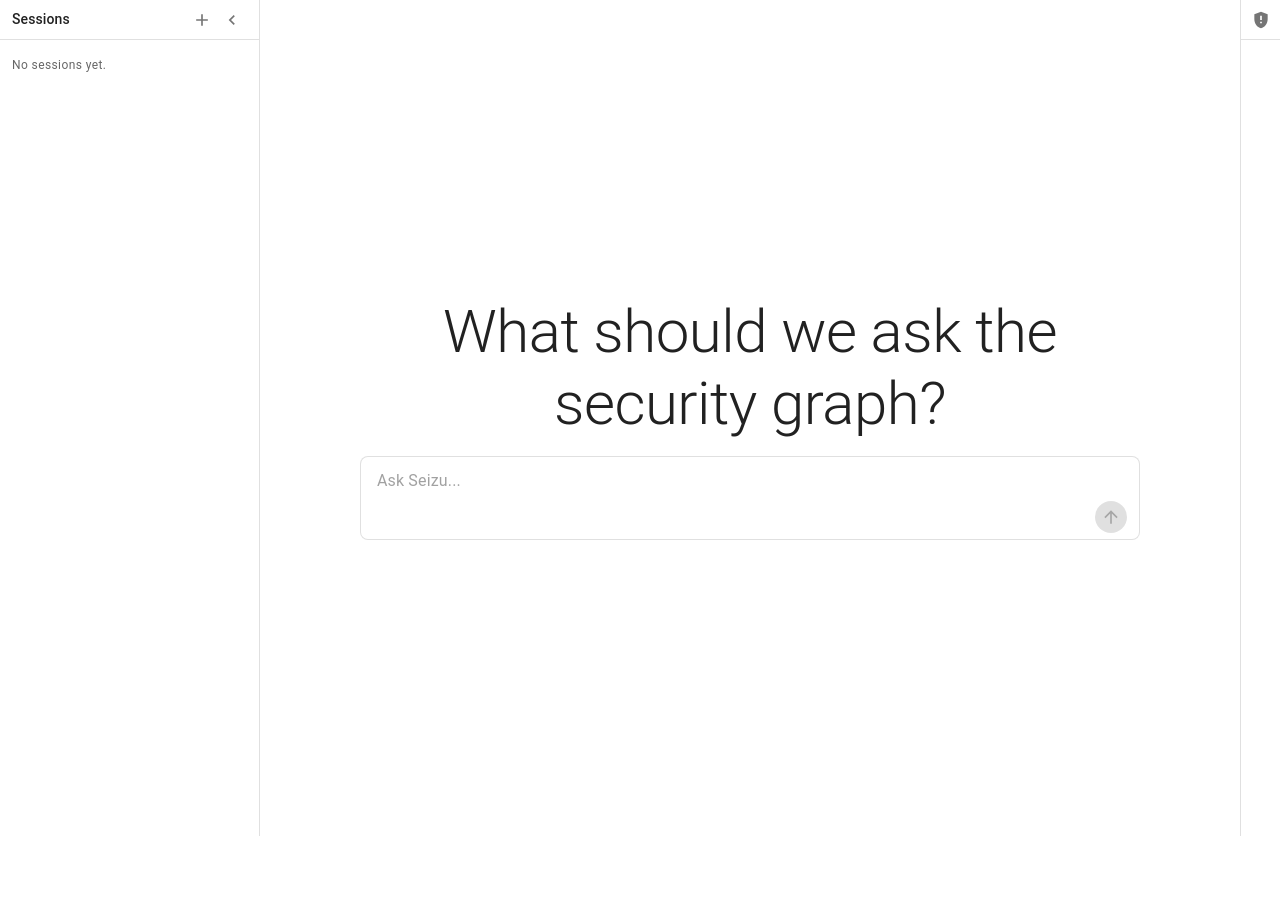
Test case: ChatInterface › admits the turn itself for the landing question, then attaches to it
Type "Which repos are exposed?" into the text box with placeholder "Ask Seizu..." at (750,481), box [377,469,1123,493]
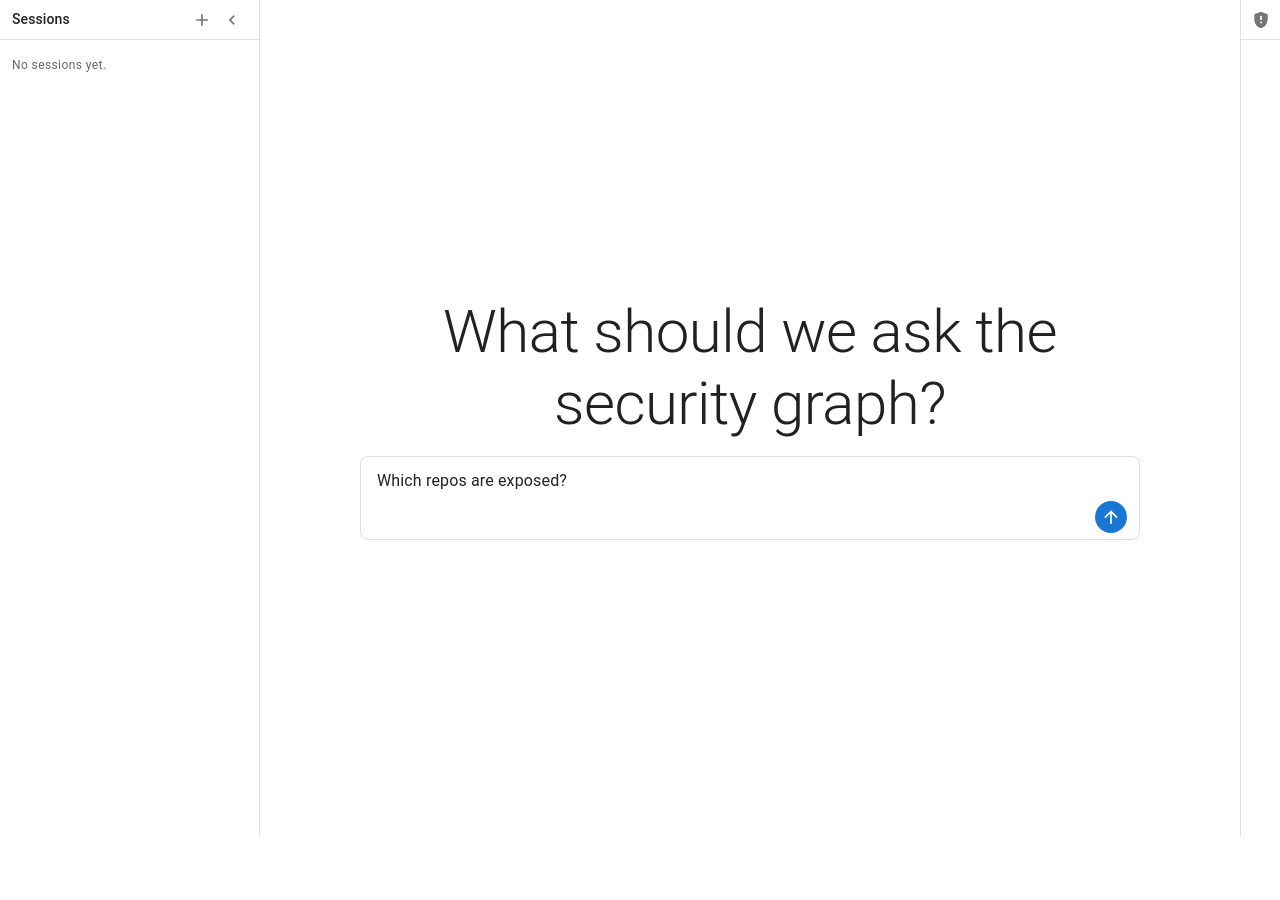
Click the button named "Send" at (1111,517), box [1095,501,1127,533]
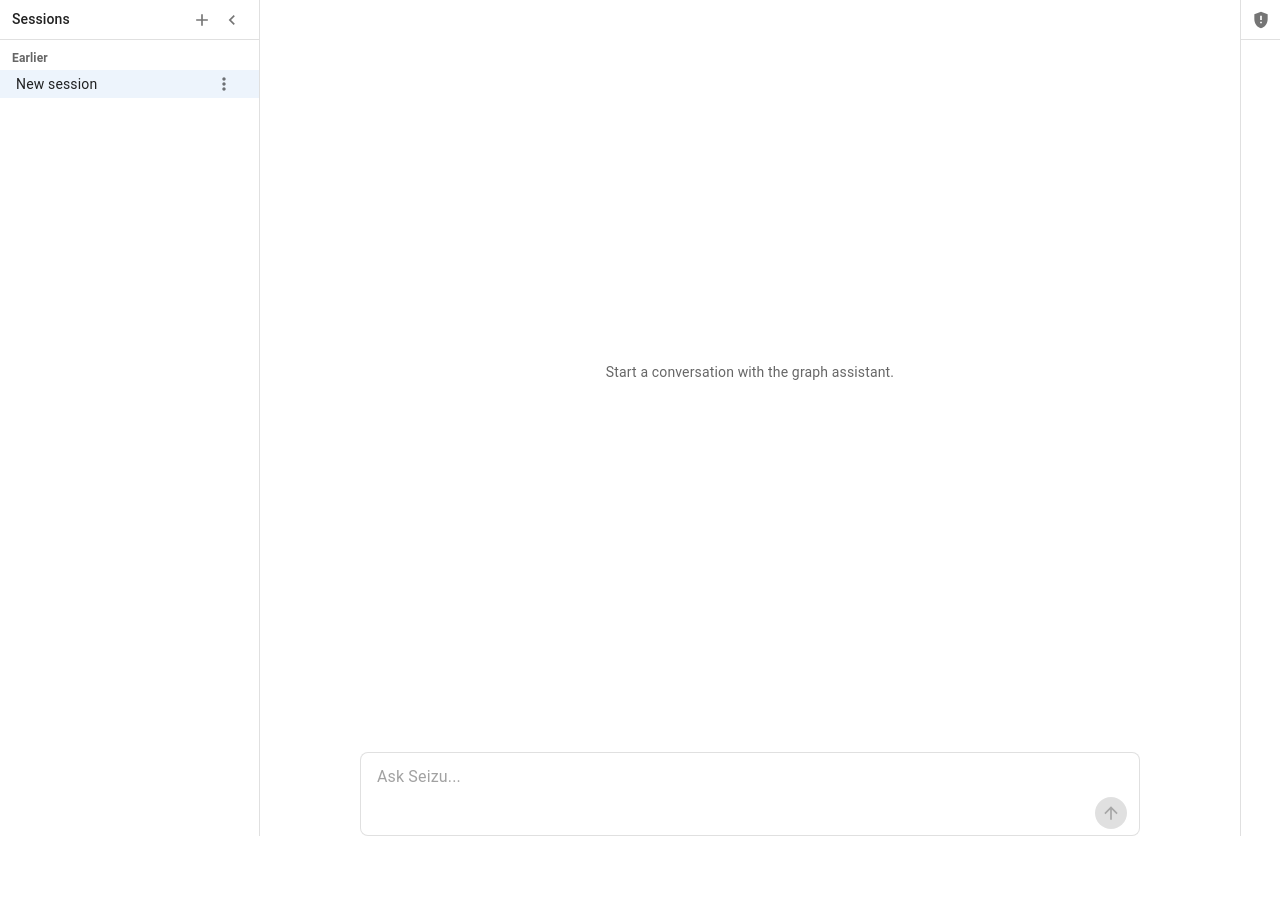
Expected: the text "What should we ask the security graph?" is gone
